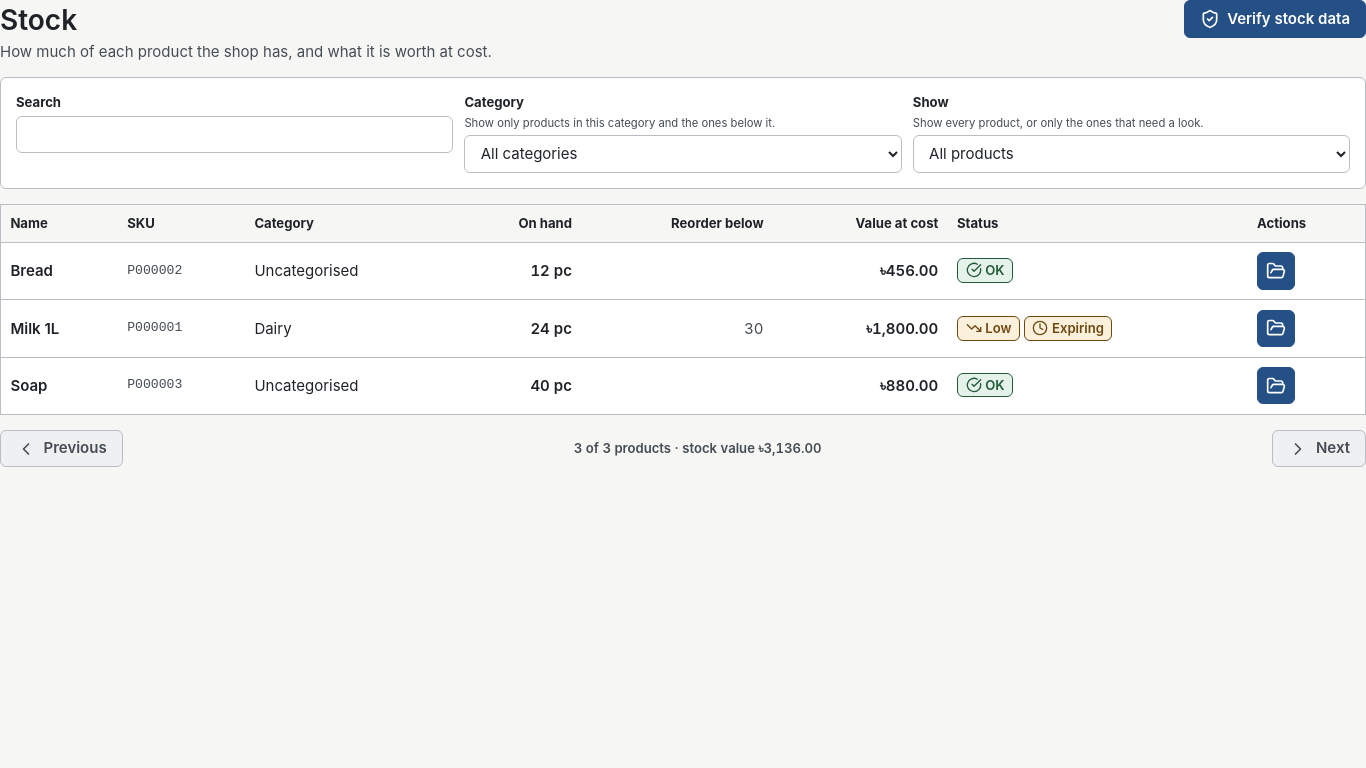
Scenario: StockProductPage (fake bridge) › inv_02: takes stock out with a reason and shows it in the history
Click the button named "Open the stock and history of Bread" at (1276, 271), box [1257, 252, 1295, 290]
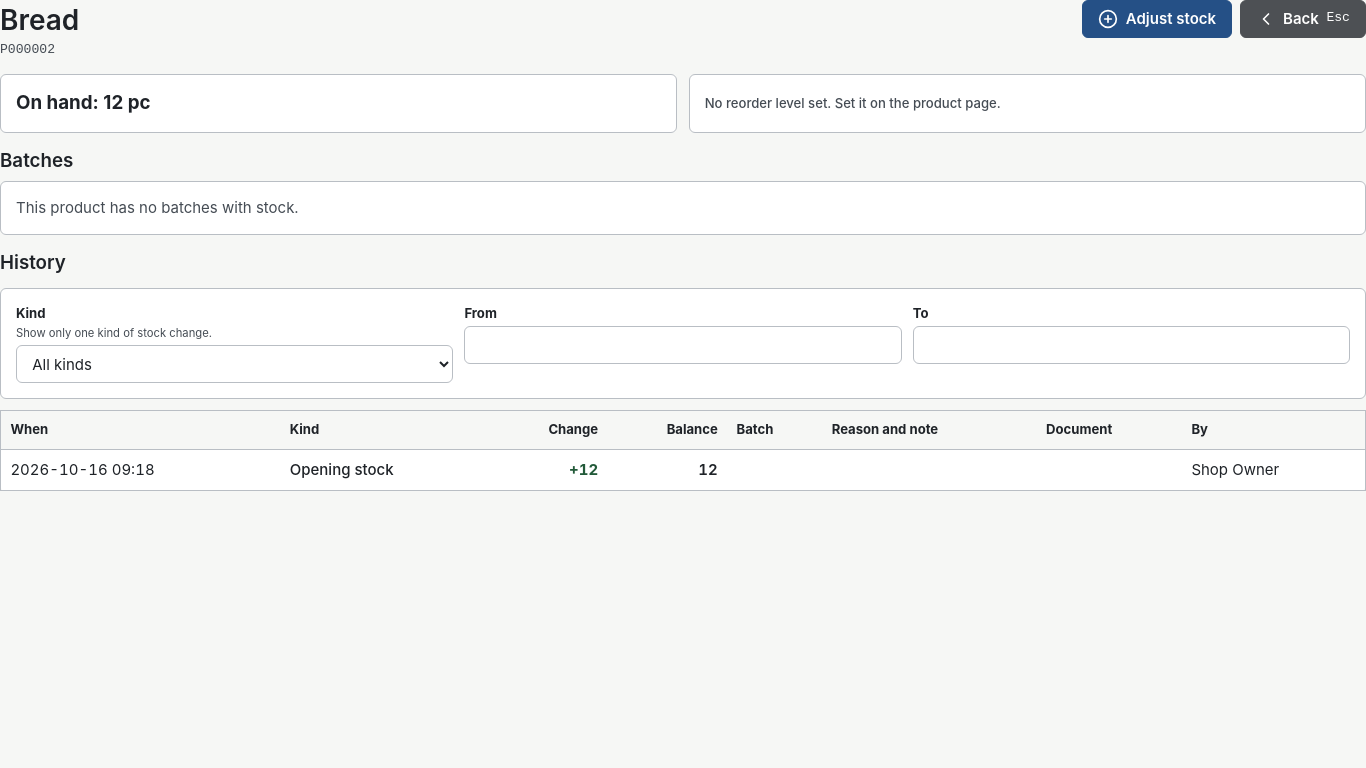
Expected: the heading "Bread" is shown, [0, 0, 79, 41]
Click the button "Adjust stock" at (1157, 19), box [1082, 0, 1232, 38]
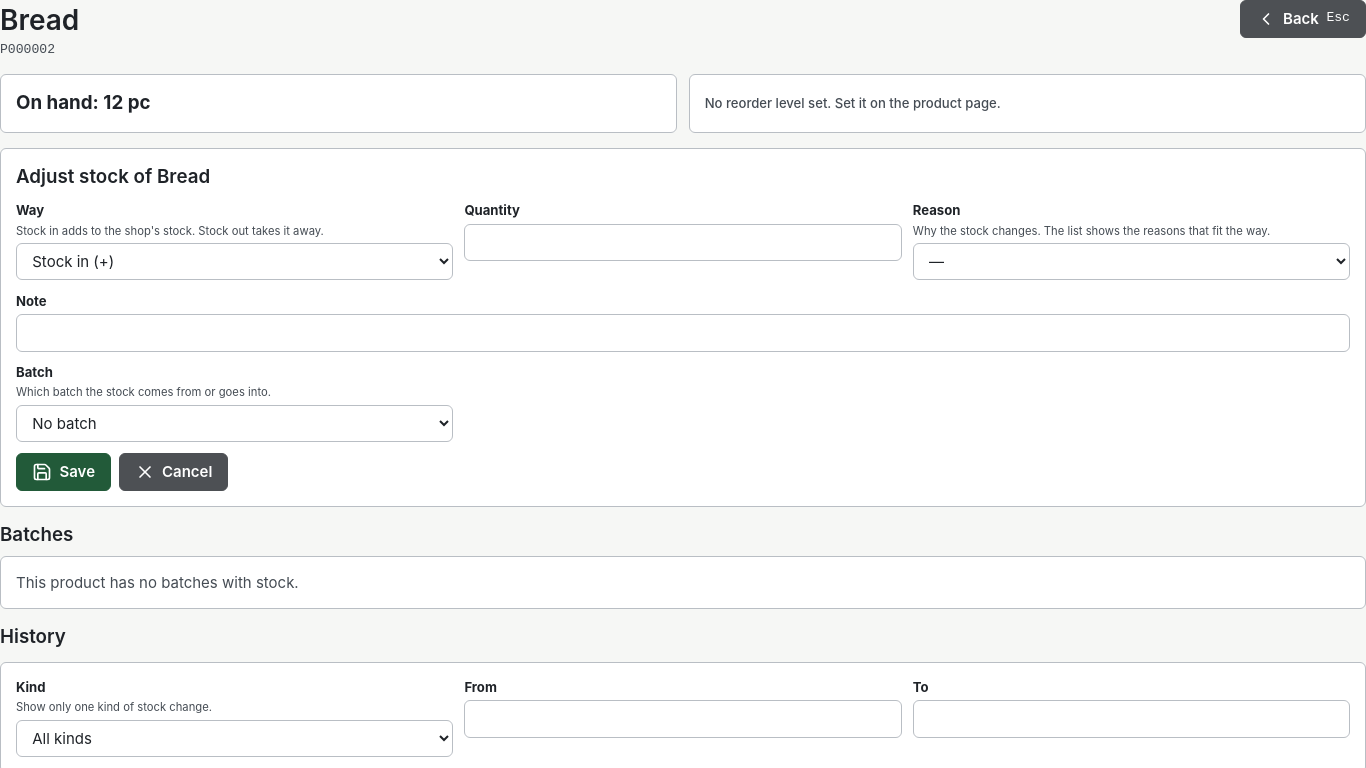
Select "Stock out (−)" in the dropdown labelled "Way" at (235, 262), box [16, 243, 453, 280]
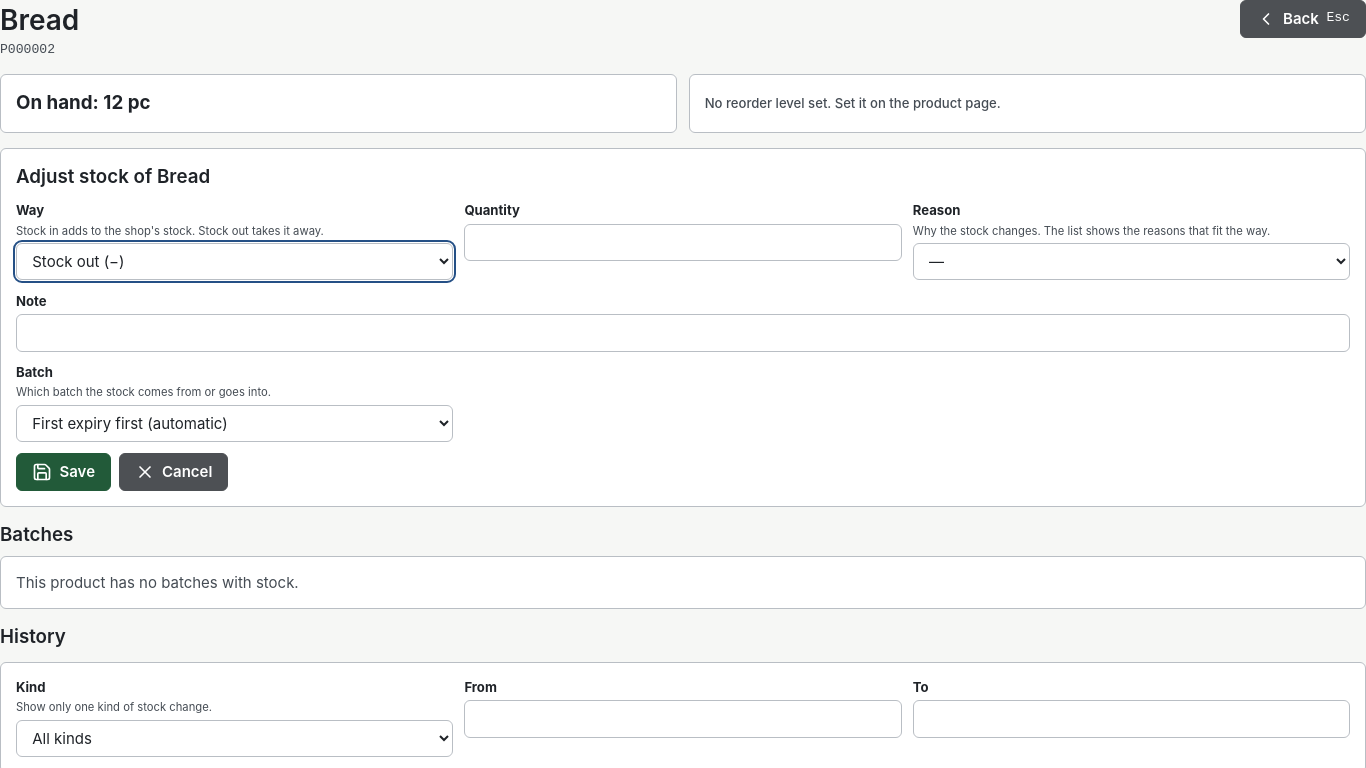
Type "2" into the field labelled "Quantity" at (683, 242), box [464, 224, 902, 261]
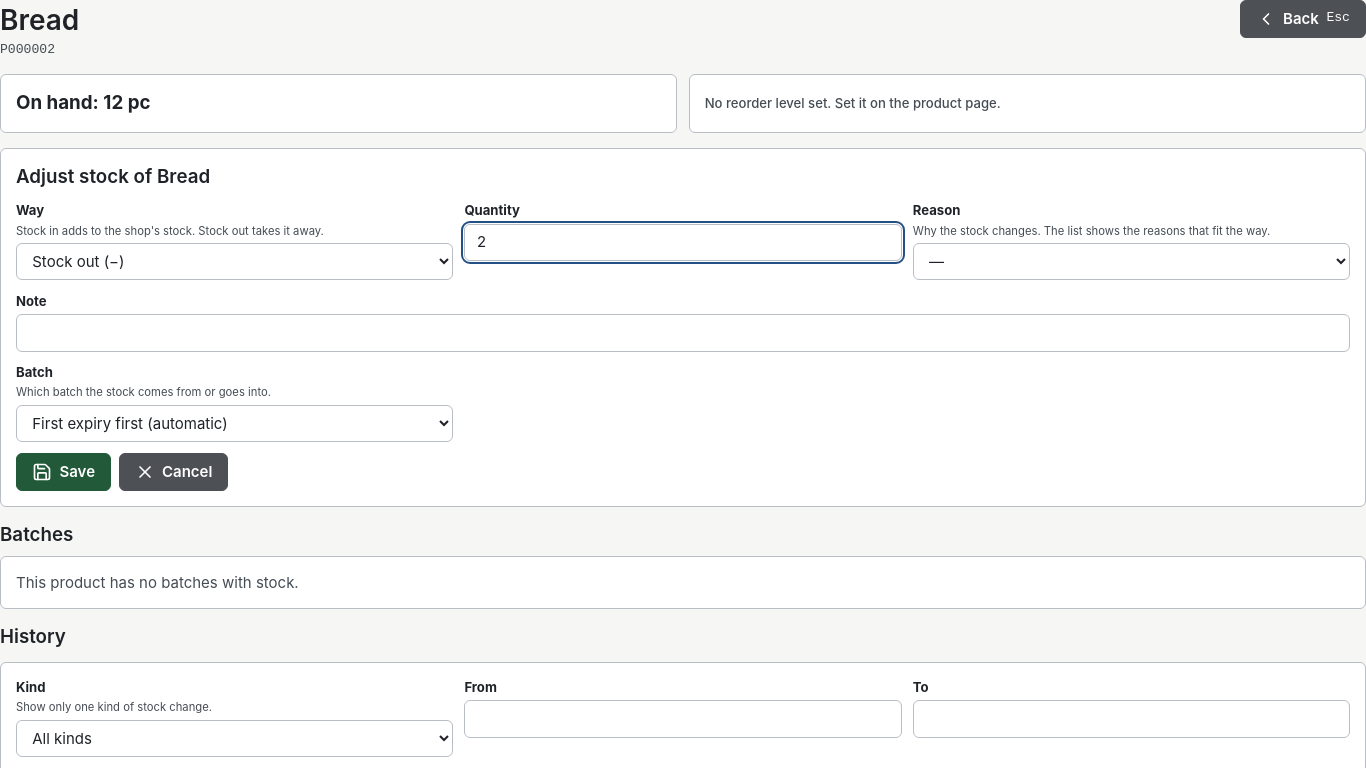
Select "Damage" in the dropdown labelled "Reason" at (1131, 262), box [913, 243, 1350, 280]
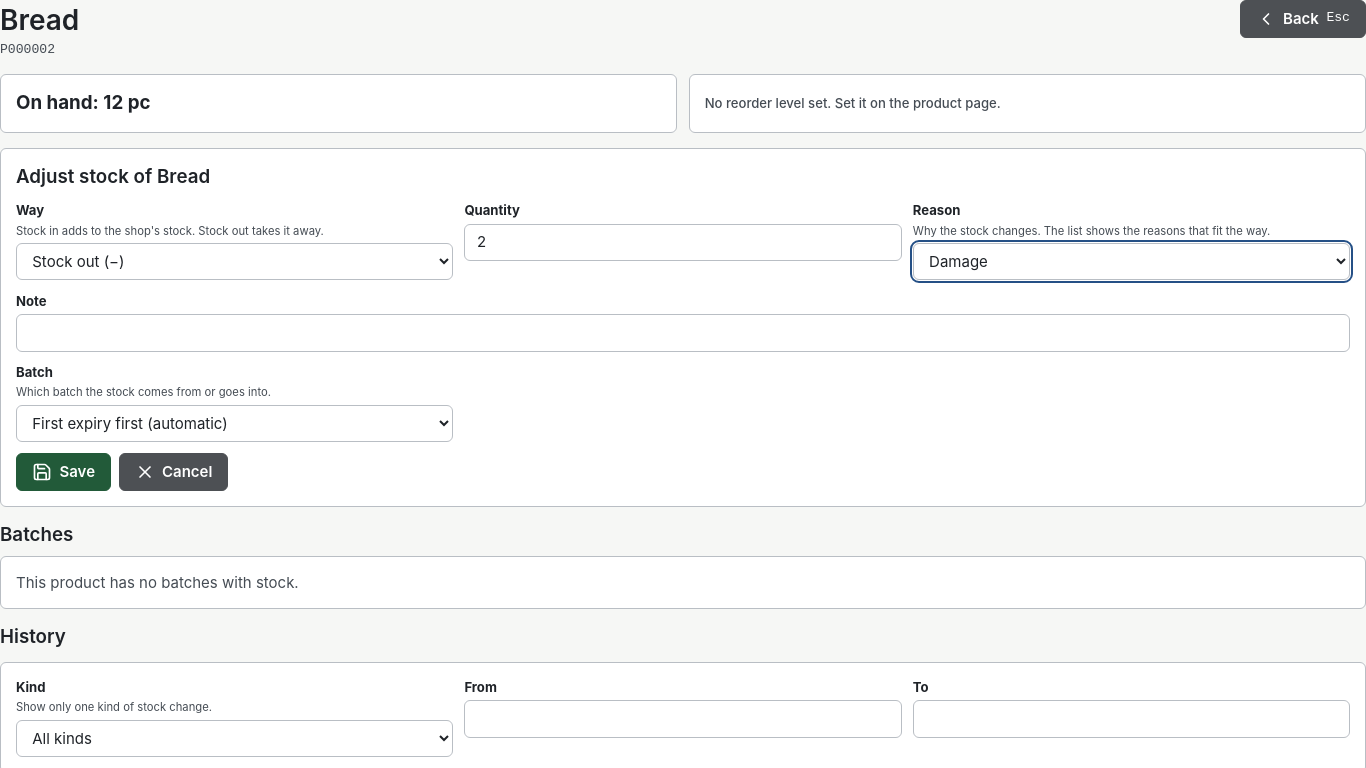
Click the button "Save" at (64, 472), box [16, 453, 111, 491]
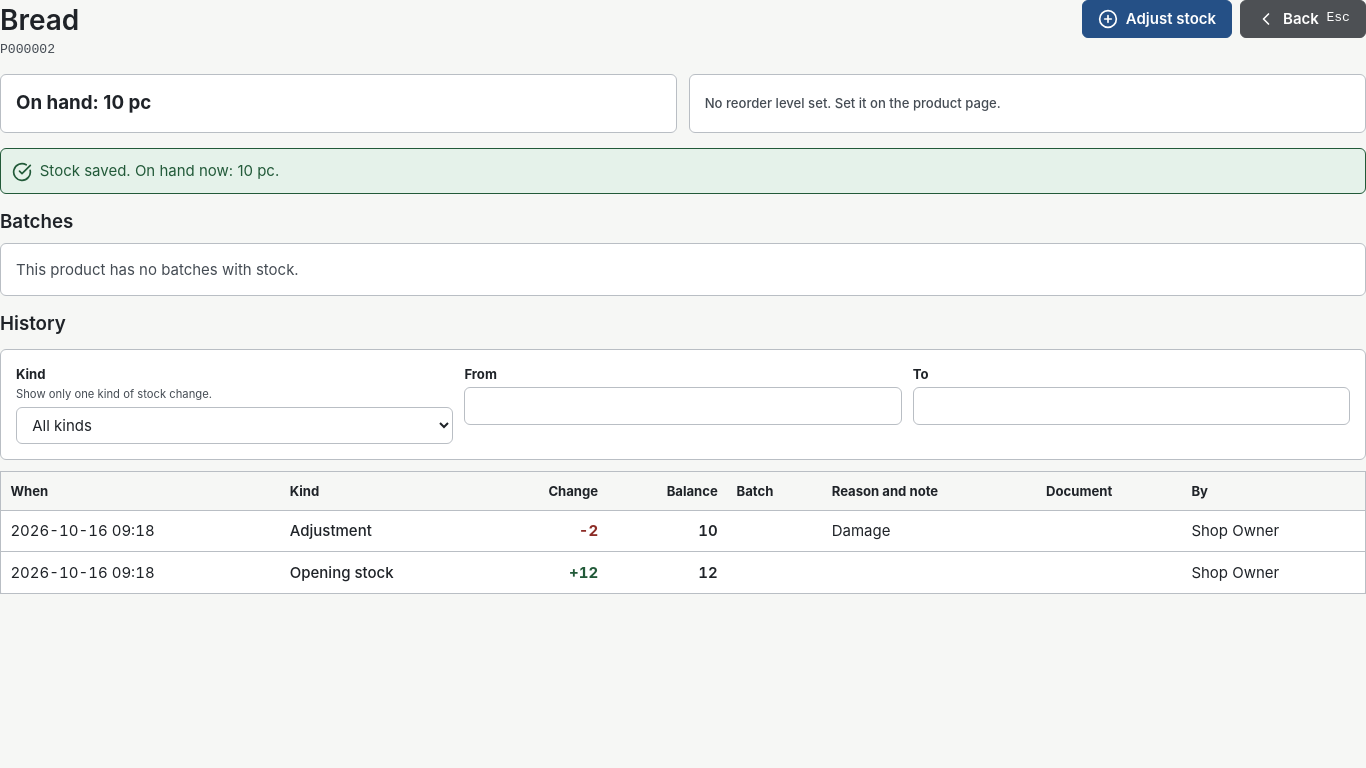
Now the text "Stock saved. On hand now: 10 pc." is shown, box [40, 160, 279, 182]
Now the text with test id "on-hand" reads "On hand: 10 pc", box [16, 91, 151, 114]
